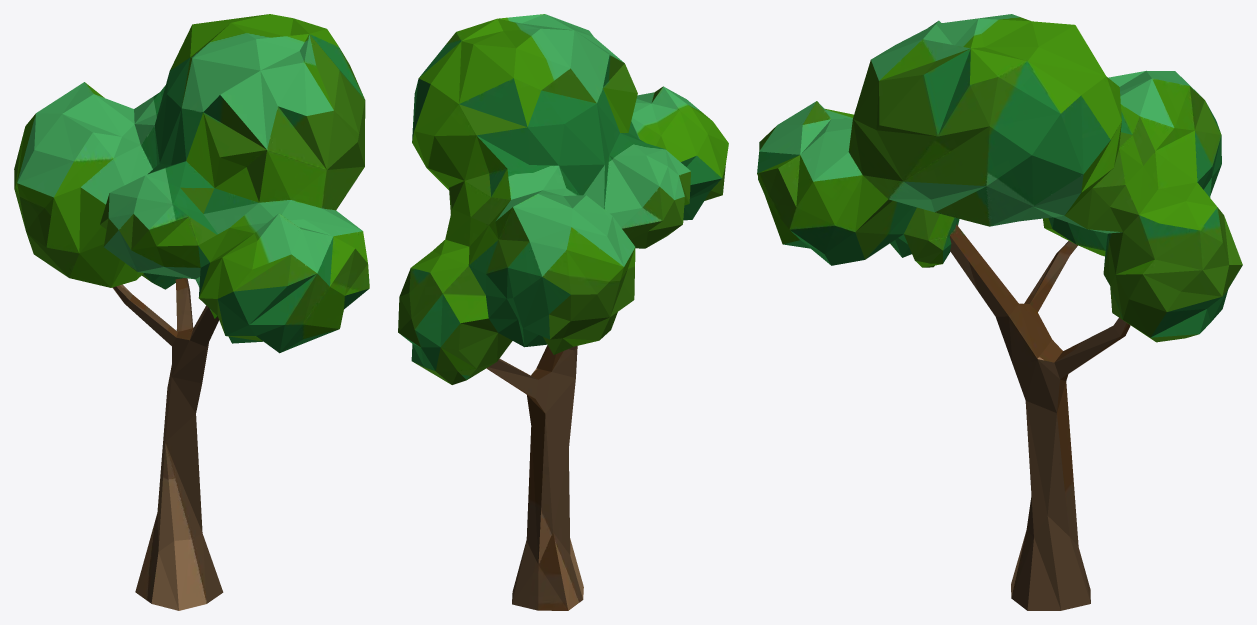
Rendered from tree1-transformed.glb.
The picture shows the model from 3 angles, left to right: view 1: azimuth 30°, elevation 25°; view 2: azimuth 150°, elevation 25°; view 3: azimuth 270°, elevation 25°; orthographic projection. The views are drawn at different scales.
Visible parts, largest first — view 1: _3_tree__3_tree_0; view 2: _3_tree__3_tree_0; view 3: _3_tree__3_tree_0.
Boxes of the visible parts, bbox=[...] form: _3_tree__3_tree_0: bbox=[14, 14, 369, 610]; _3_tree__3_tree_0: bbox=[398, 14, 728, 610]; _3_tree__3_tree_0: bbox=[757, 14, 1242, 610].
Size of the model in its own units: 0.7953 by 1.58 by 1.17.
1 material, 1 textured.
